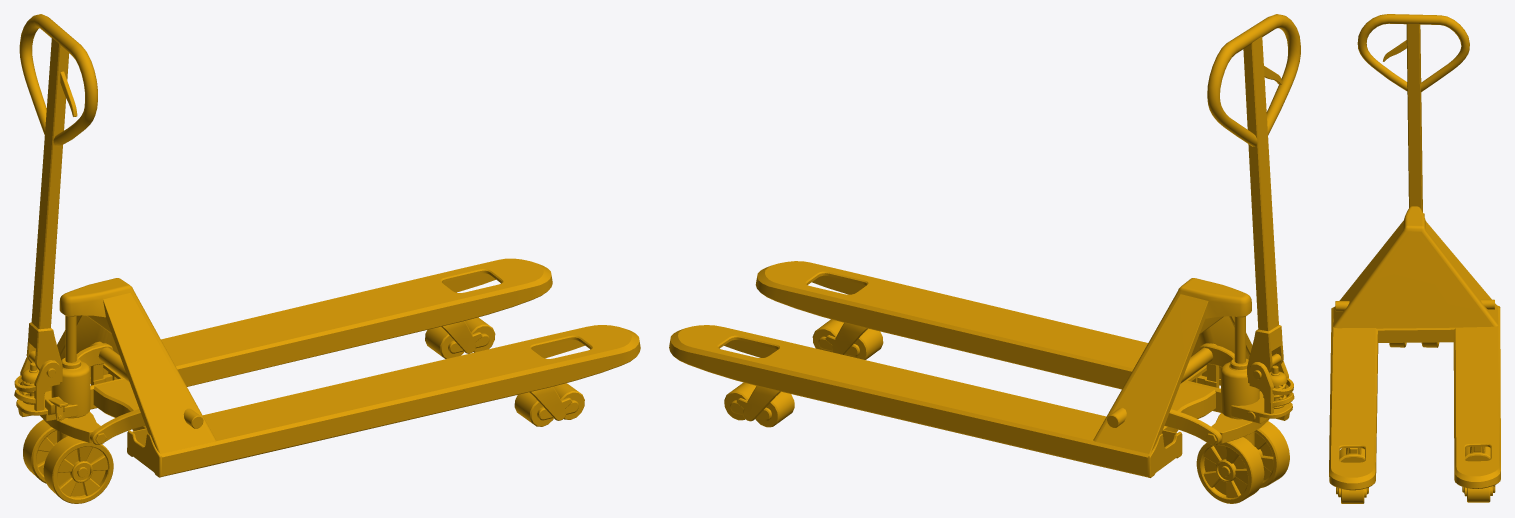
Rendered from pallet_jack.fbx.
3 views of the same model, side by side, from view 1: azimuth 30°, elevation 25°; view 2: azimuth 150°, elevation 25°; view 3: azimuth 270°, elevation 25° (orthographic). The views are drawn at different scales.
Visible parts, largest first — view 1: hand_pallet_truck_low; view 2: hand_pallet_truck_low; view 3: hand_pallet_truck_low.
Boxes of the visible parts, box(x1,y1,x2,y2) form: hand_pallet_truck_low: box(14, 14, 640, 503); hand_pallet_truck_low: box(669, 14, 1300, 503); hand_pallet_truck_low: box(1329, 14, 1500, 503).
Size of the model in its own units: 62.68 by 48.3 by 22.88.
